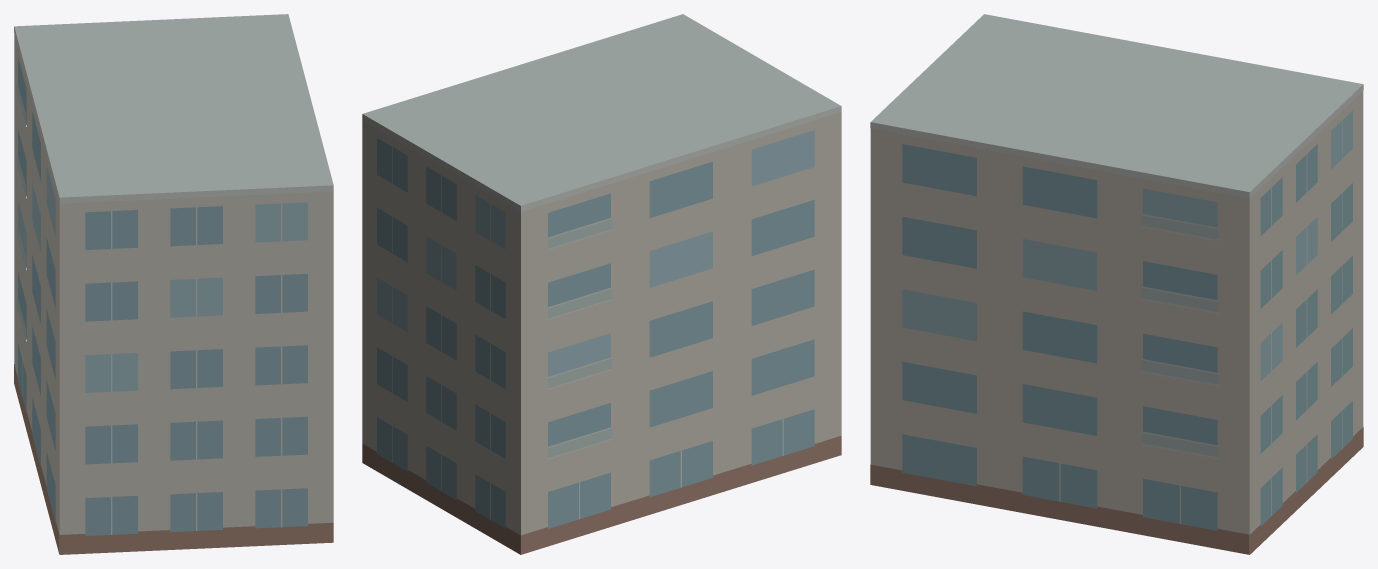
The model's file is survey-upis-32521844.glb.
3 views of the same model, side by side, from view 1: azimuth 30°, elevation 25°; view 2: azimuth 150°, elevation 25°; view 3: azimuth 270°, elevation 25° (orthographic). The views are drawn at different scales.
Visible parts, largest first — view 1: survey-upis-32521844.tmp; view 2: survey-upis-32521844.tmp; view 3: survey-upis-32521844.tmp.
Part boxes in pixels (x1=…): survey-upis-32521844.tmp: x1=14, y1=14, x2=333, y2=554; survey-upis-32521844.tmp: x1=362, y1=14, x2=841, y2=554; survey-upis-32521844.tmp: x1=870, y1=14, x2=1363, y2=554.
Size of the model in its own units: 14.97 by 14.2 by 17.5.
